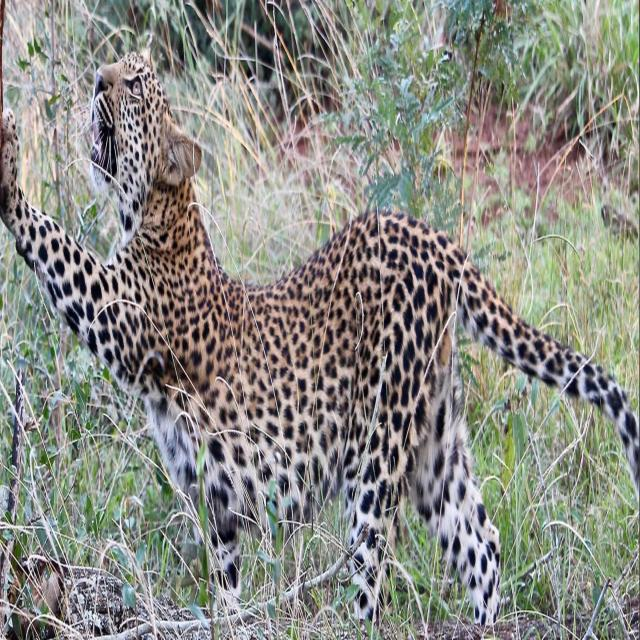Leopard: (19, 78, 640, 639)
